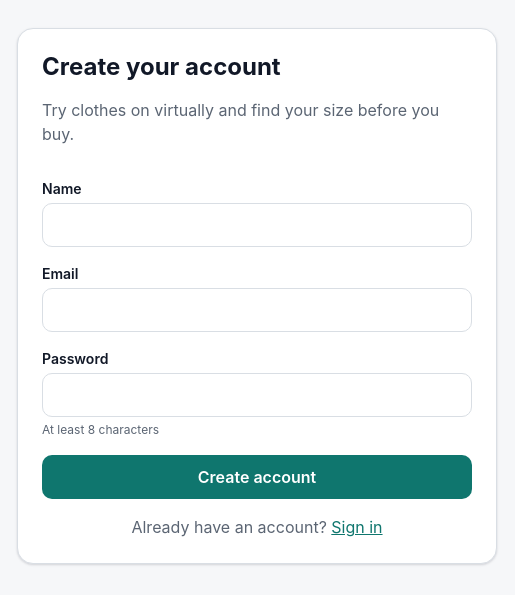
register › maps server field errors onto inputs
The image size is (515, 595).
Type "Ana" into the field labelled "Name" at (257, 225), box x1=42 y1=203 x2=472 y2=247
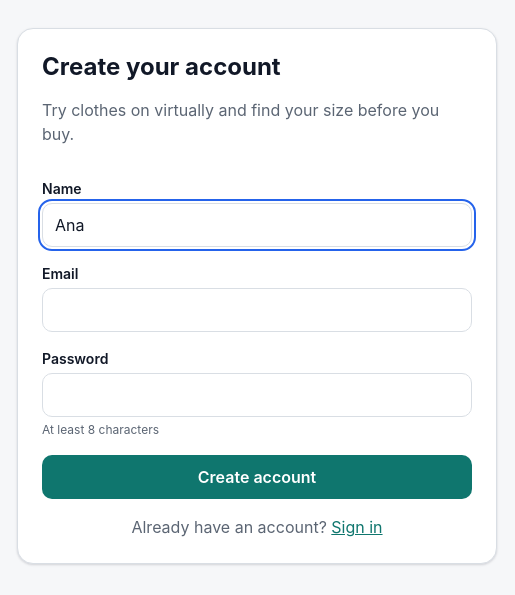
Type "ana@example.com" into the field labelled "Email" at (257, 310), box x1=42 y1=288 x2=472 y2=332
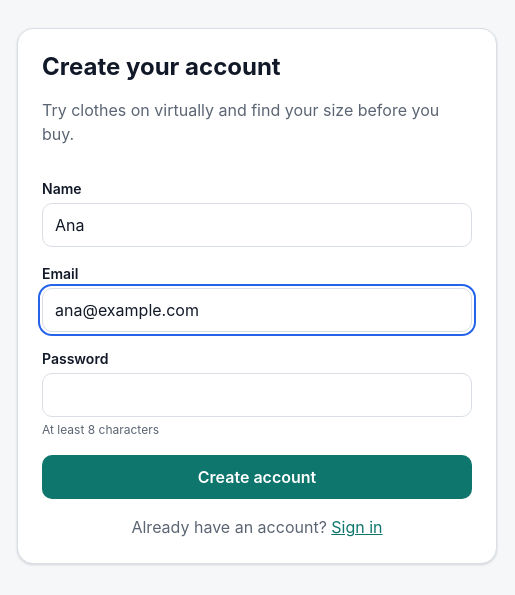
Type "long-enough-pw" into the password field labelled "Password" at (257, 395), box x1=42 y1=373 x2=472 y2=417
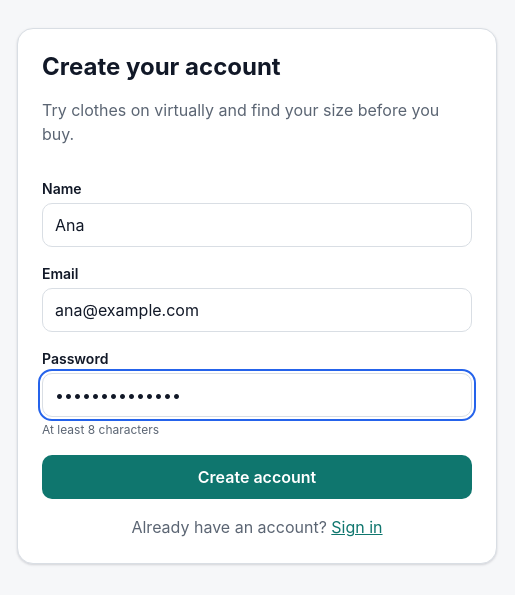
Click the button "Create account" at (257, 477), box x1=42 y1=455 x2=472 y2=499
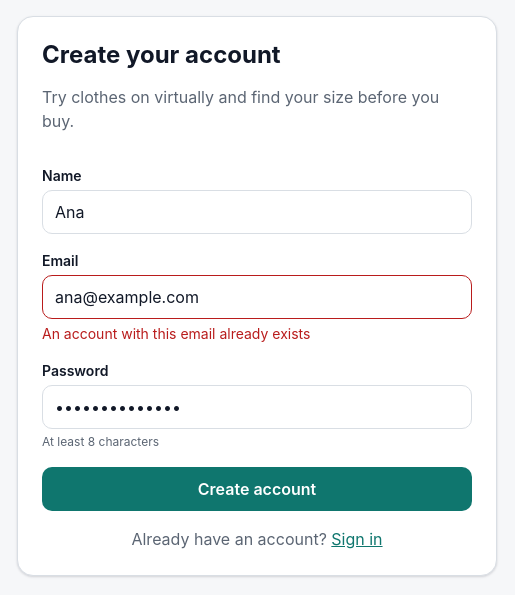
Now the text "An account with this email already exists" is shown, box x1=42 y1=325 x2=310 y2=342
